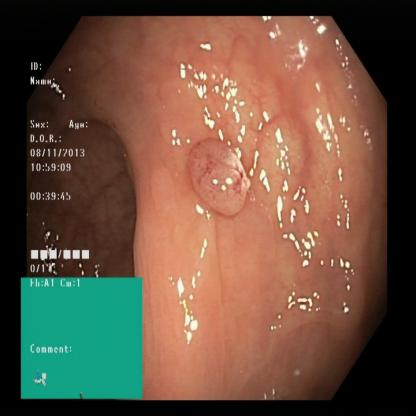Labels: (28, 58, 99, 275), (20, 281, 142, 398)
Polyps: (182, 138, 259, 216), (268, 114, 318, 202)
